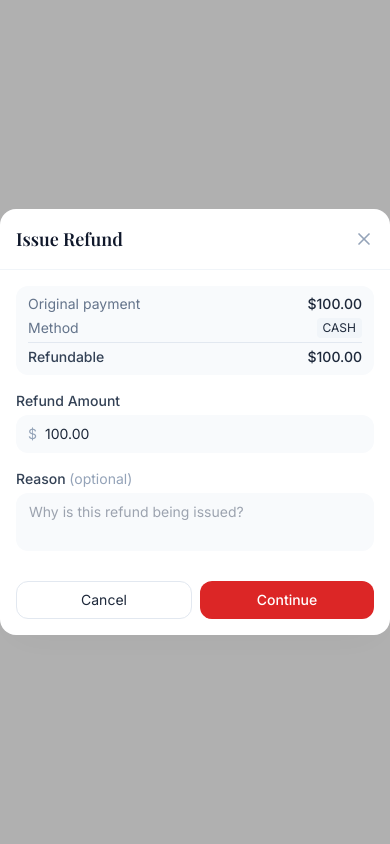
Test: RefundModal › shows confirmation step on Continue
Click the button "Continue": {"x": 287, "y": 600} [200,581,374,619]
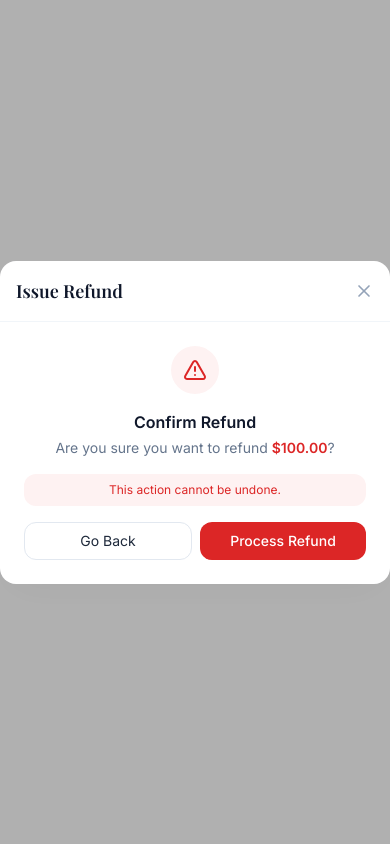
Expected: the text "Confirm Refund" is shown, [134,412,256,432]
